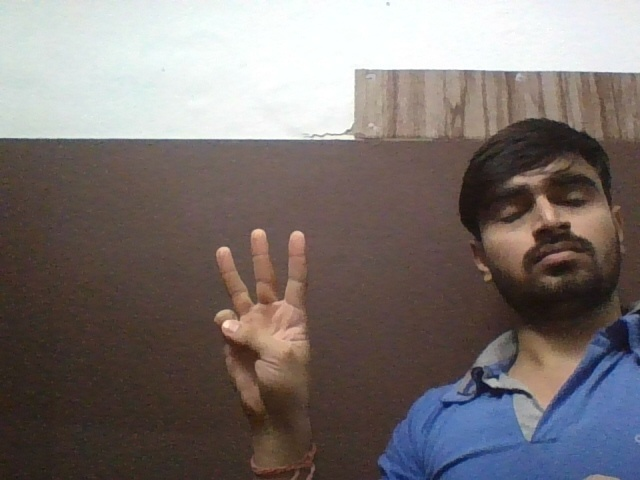W: (203, 225, 326, 419)
